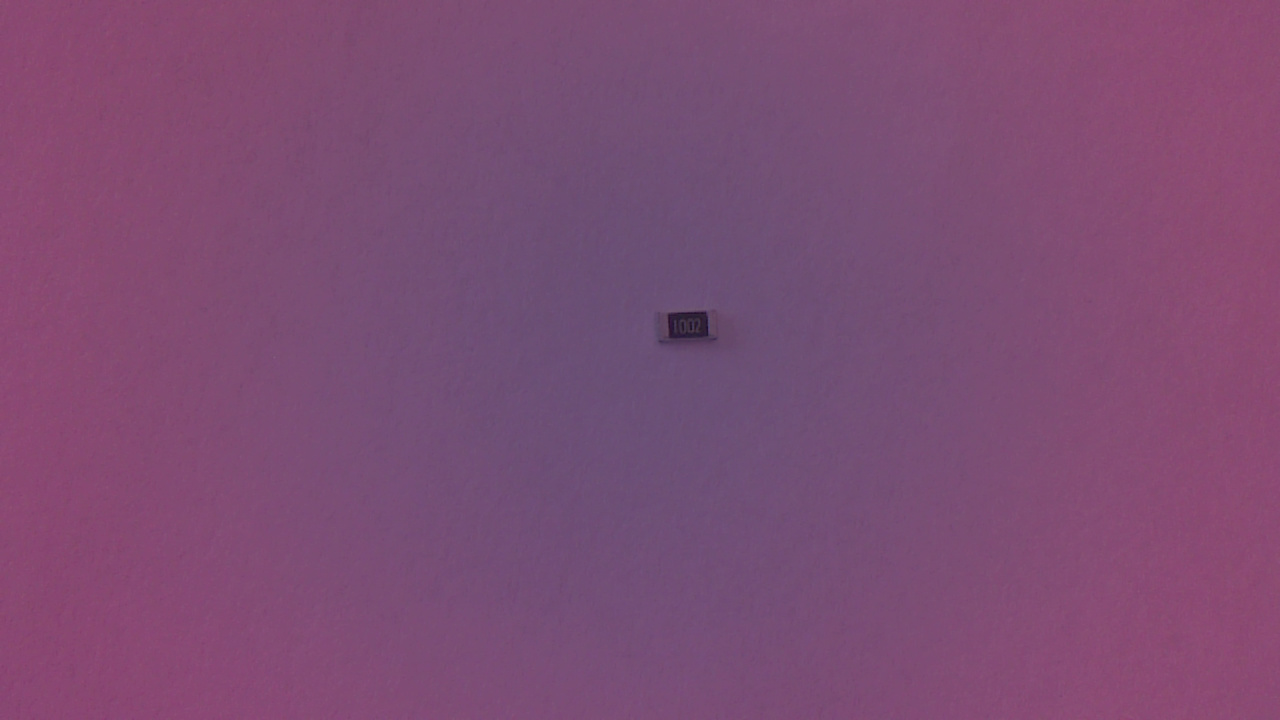Resistor: (656, 311, 727, 351)
